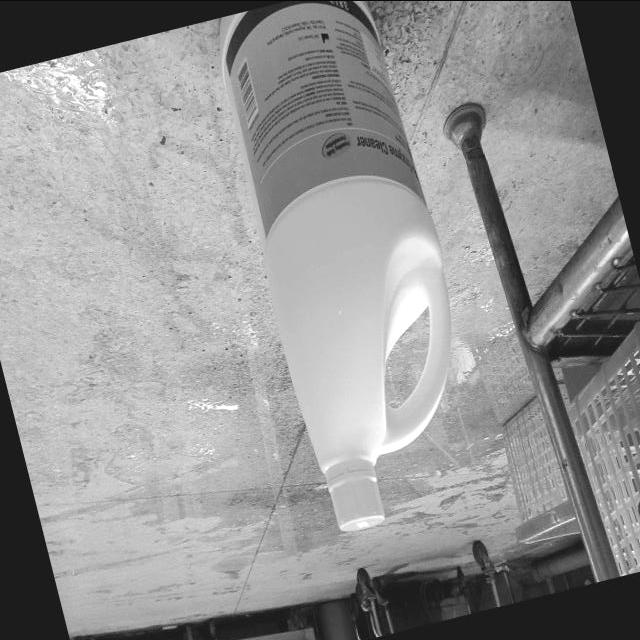Infectious: (218, 0, 452, 531)
Sharps: (442, 101, 588, 549)
